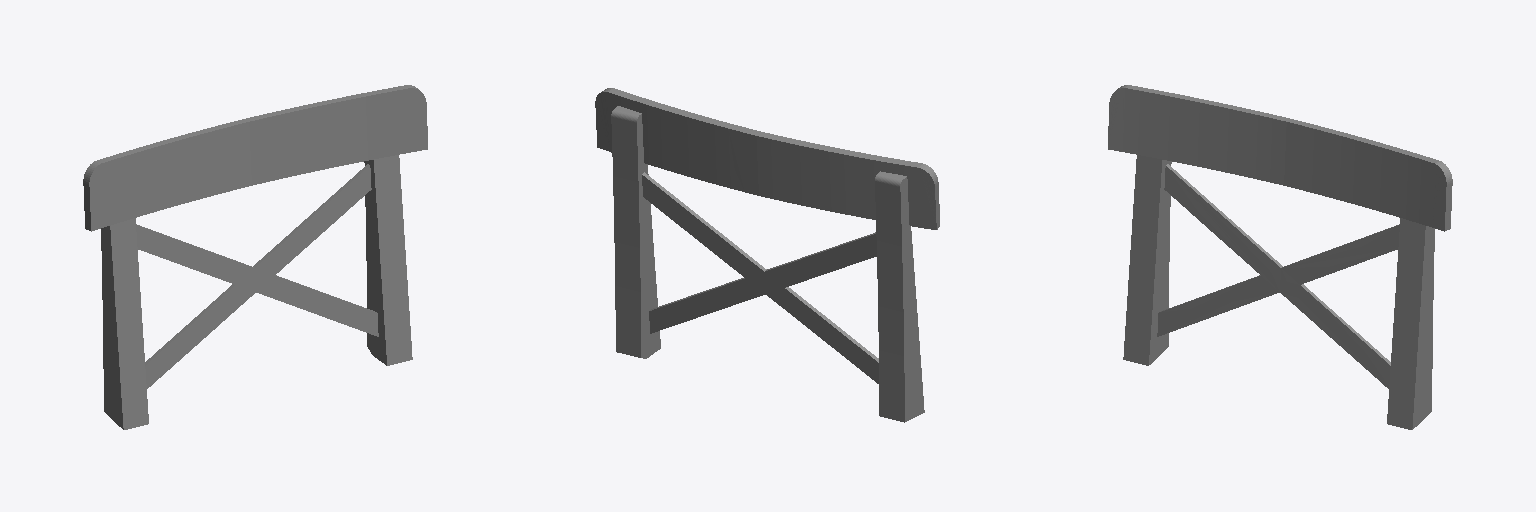
Rendered from back.obj.
The picture shows the model from 3 angles: view 1: azimuth 30°, elevation 25°; view 2: azimuth 150°, elevation 25°; view 3: azimuth 330°, elevation 25°; orthographic projection.
Visible parts, largest first — view 1: back; view 2: back; view 3: back.
Boxes of the visible parts, box(x1,y1,x2,y2) form: back: box(83, 85, 427, 429); back: box(595, 88, 939, 422); back: box(1108, 85, 1452, 429).
Size of the model in its own units: 15.72 by 11.53 by 1.95.